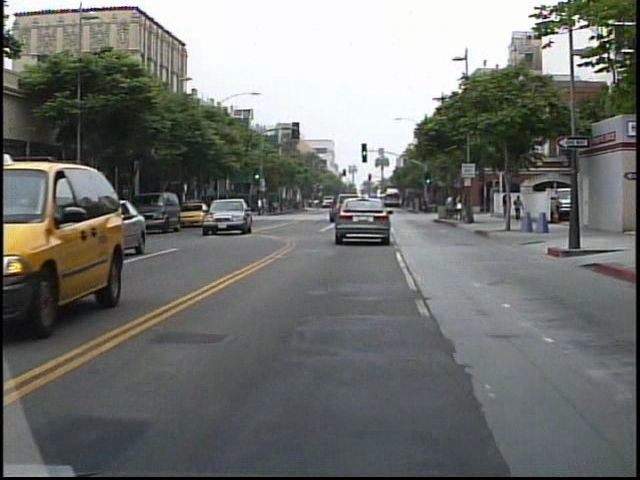person: (440, 190, 459, 221), (501, 187, 515, 227), (511, 192, 524, 225), (258, 194, 267, 219)
